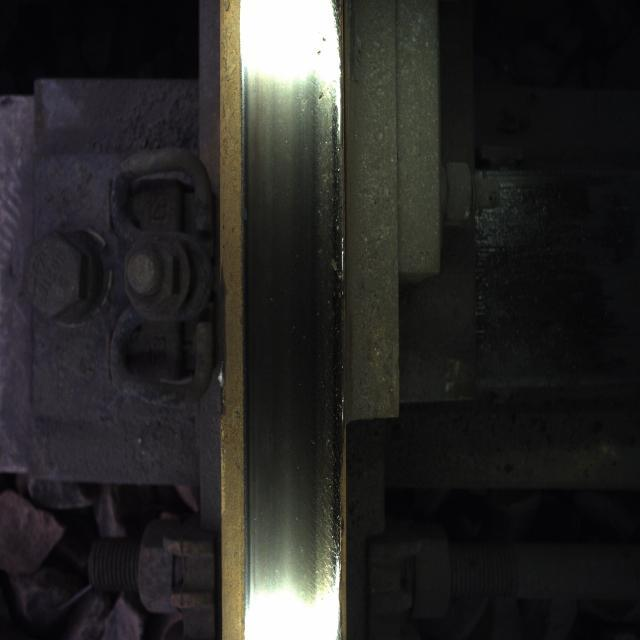crack: (286, 53, 348, 592)
